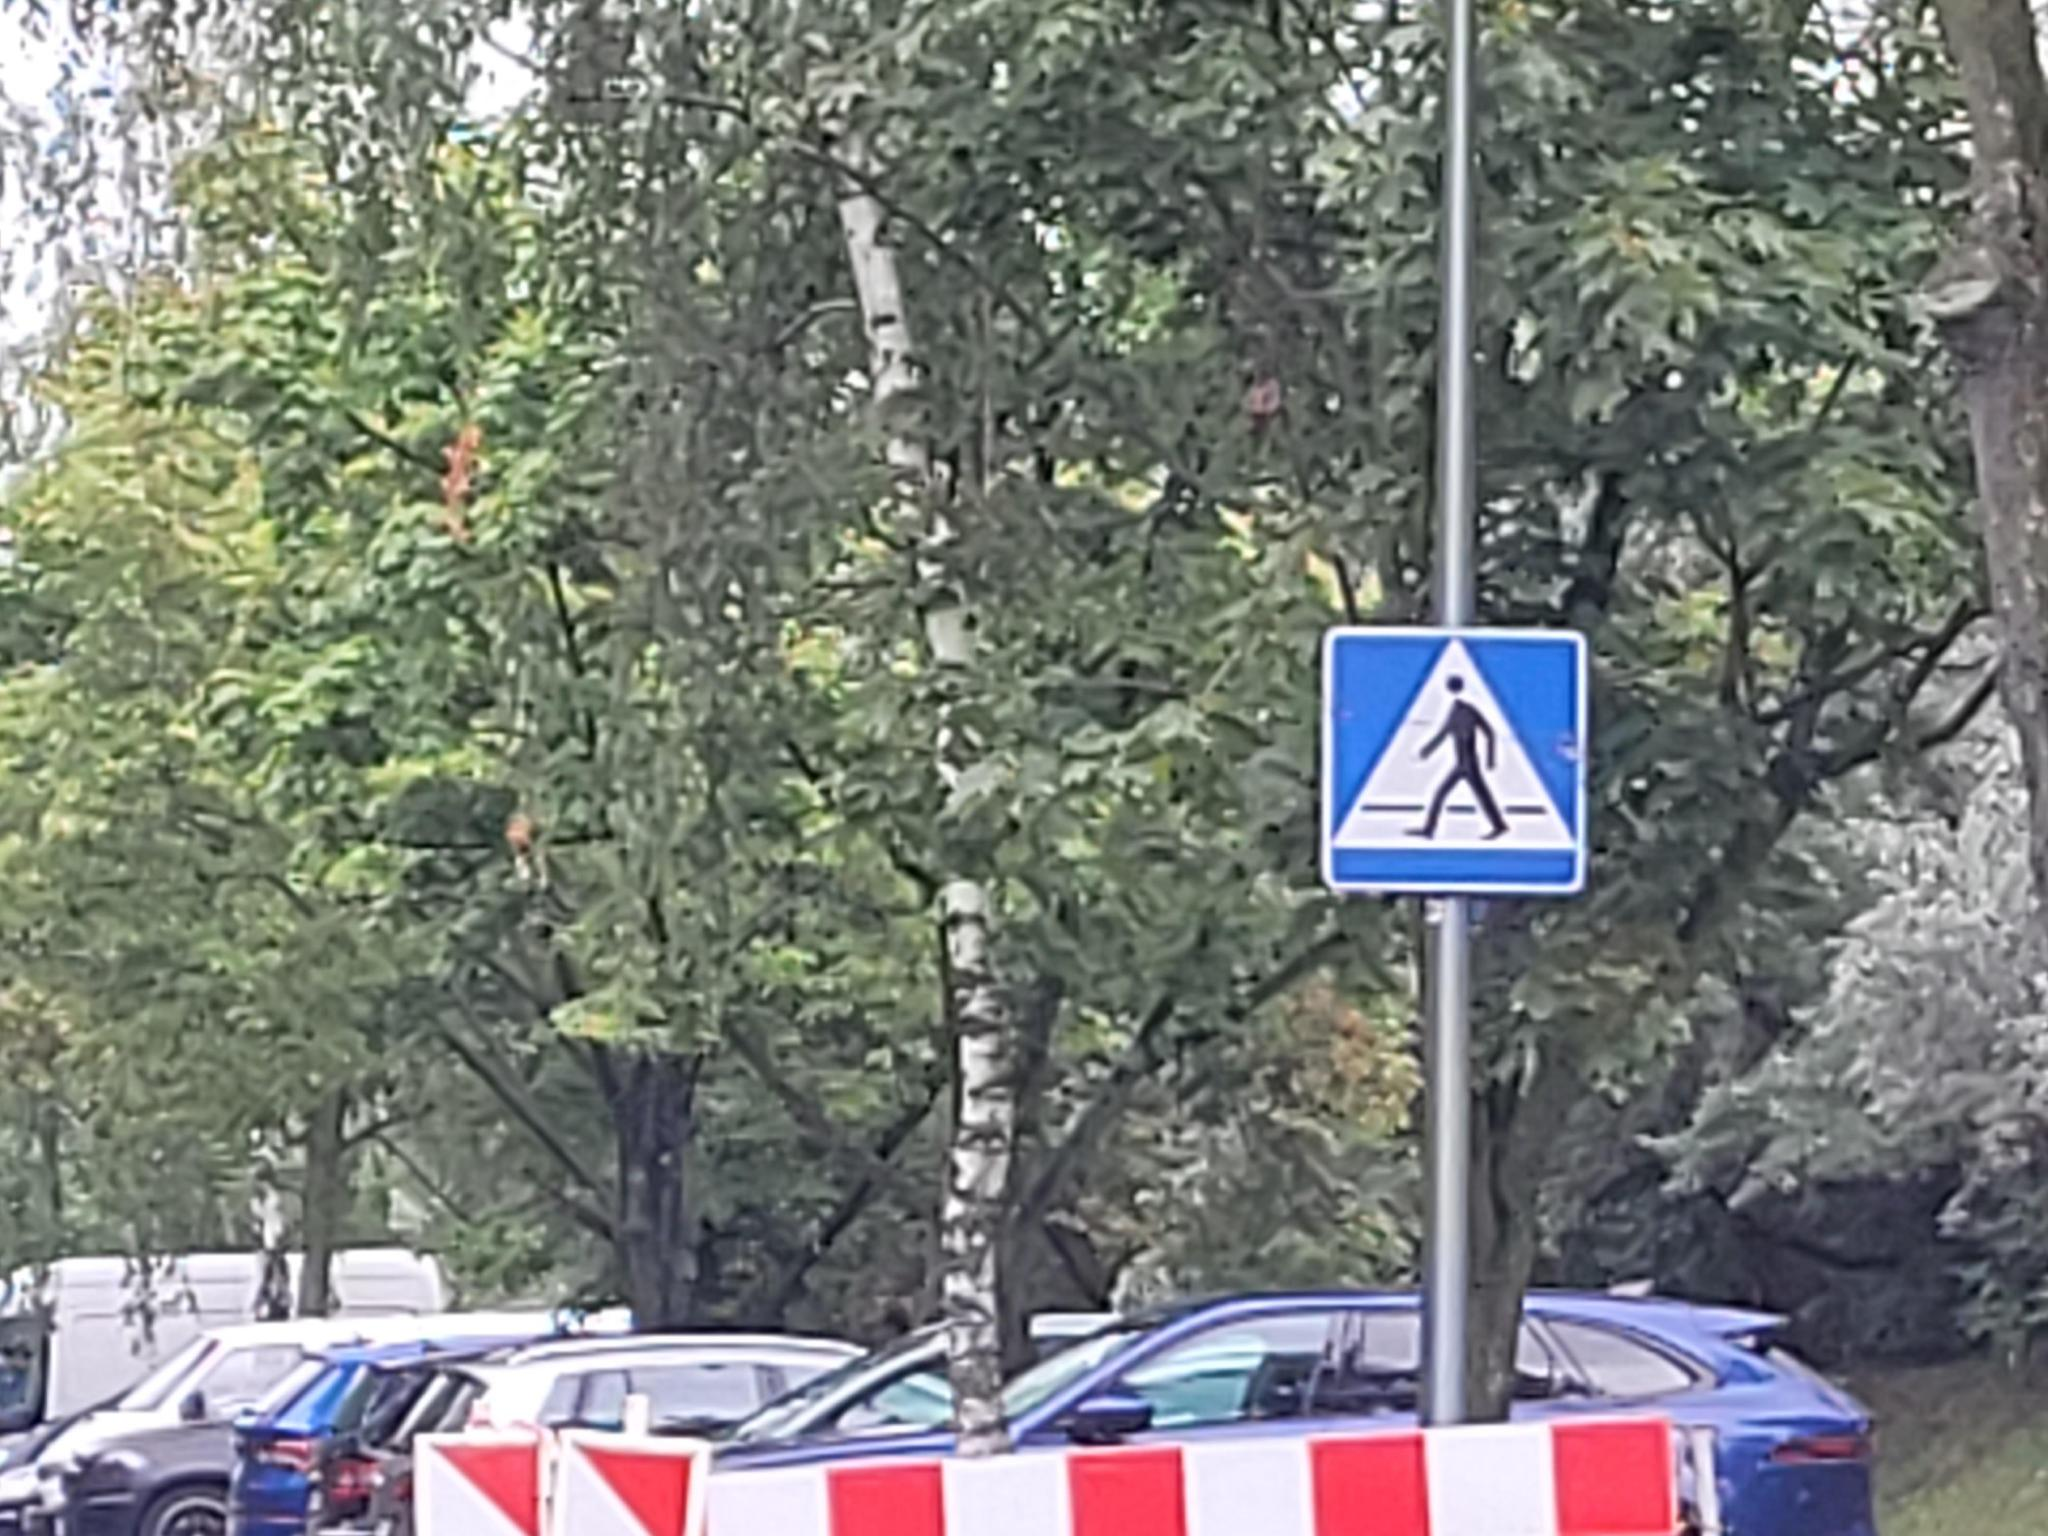information: (1330, 634, 1582, 886)
